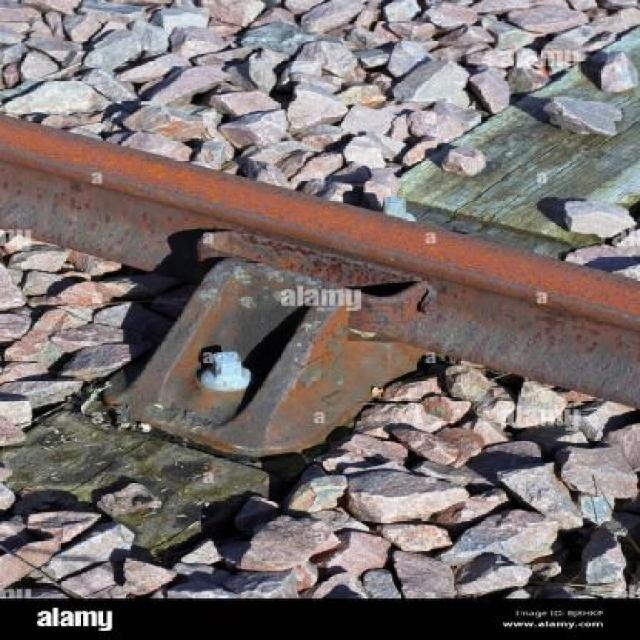non-defective: (0, 80, 638, 467)
